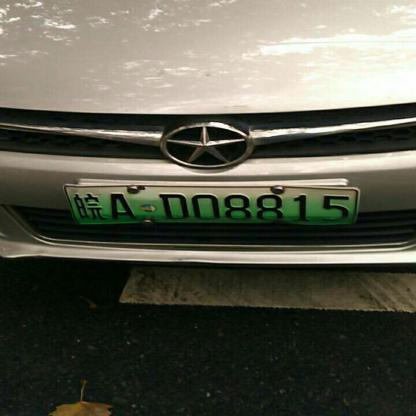lp: (65, 186, 357, 226)
